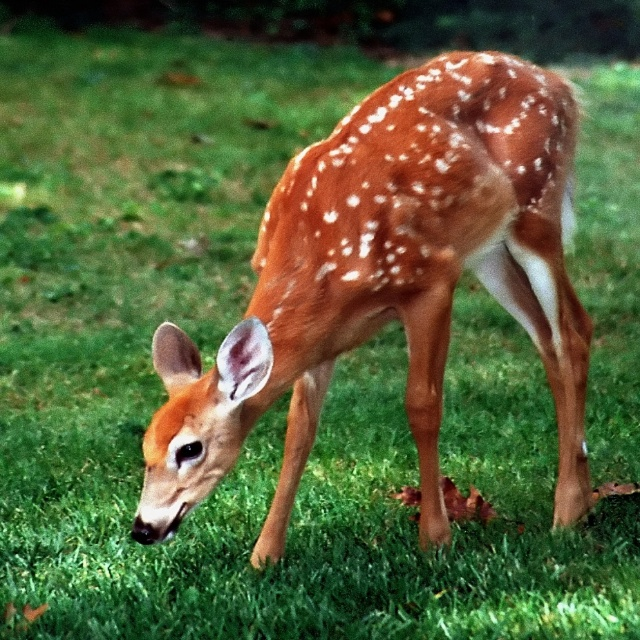Deer: (131, 51, 594, 571)
